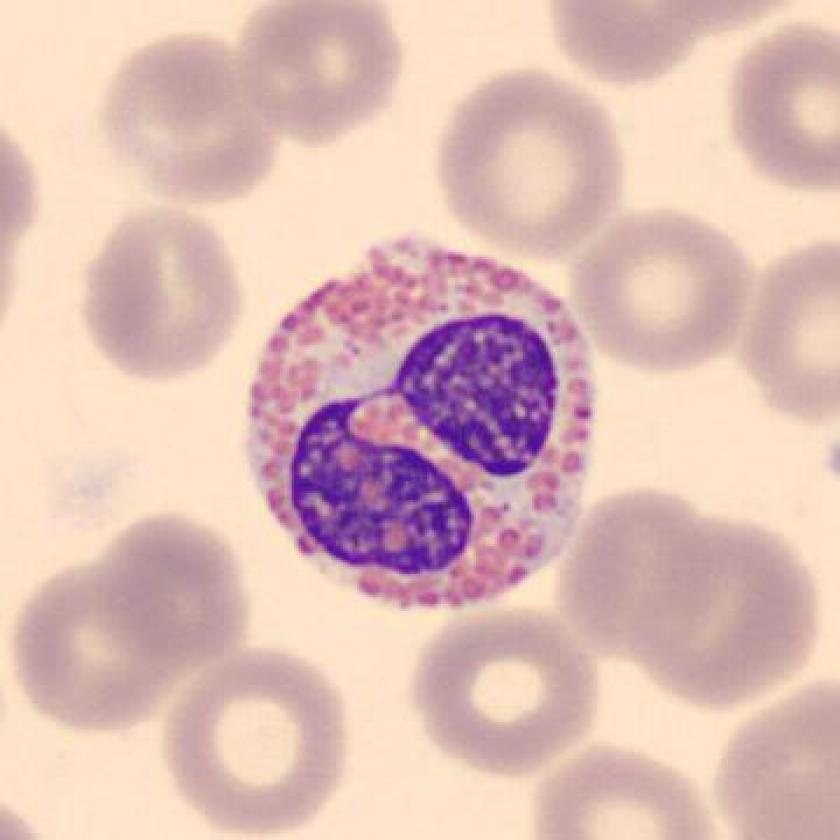eosinophil: (230, 228, 617, 626)
